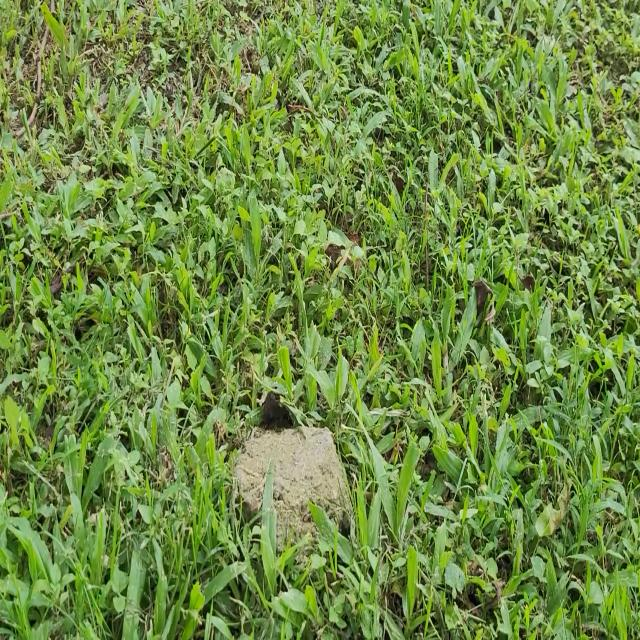grass: (0, 0, 640, 639)
stone: (235, 393, 351, 536)
